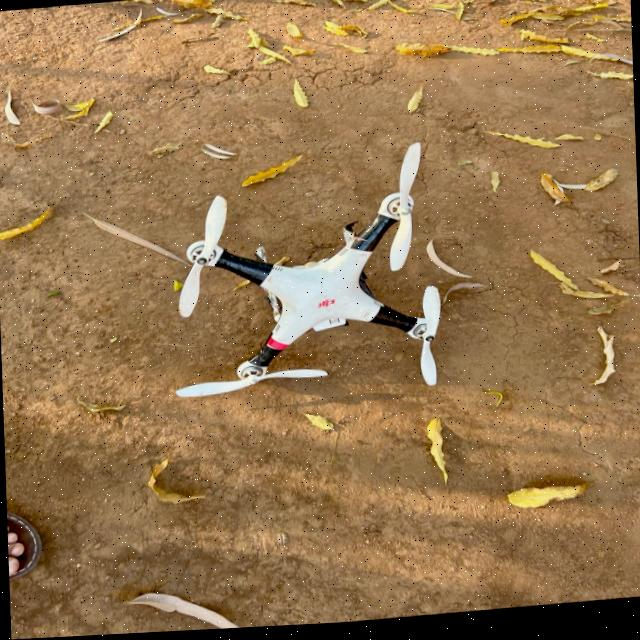drone: (144, 157, 463, 431)
